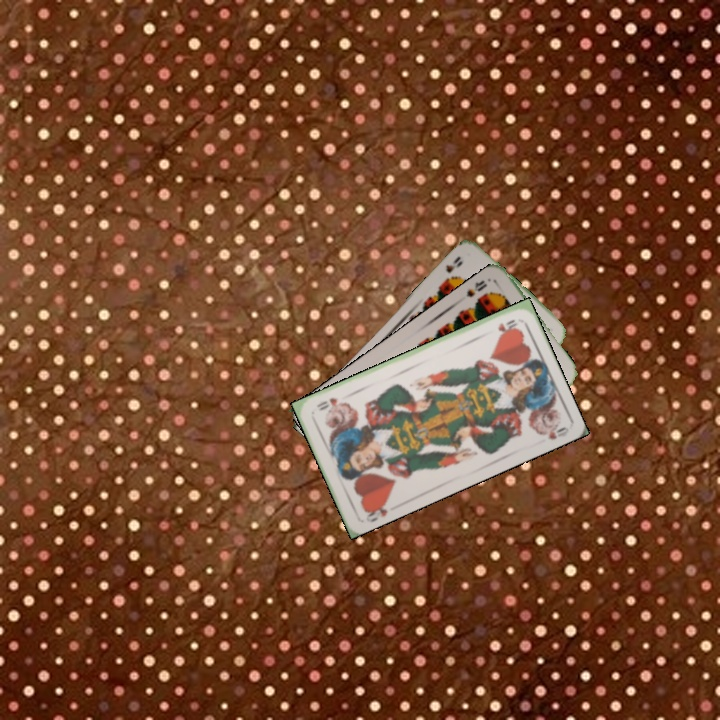HO: (360, 497, 390, 525), (494, 315, 521, 335)
S8: (462, 276, 490, 300)
S9: (439, 252, 465, 286)
